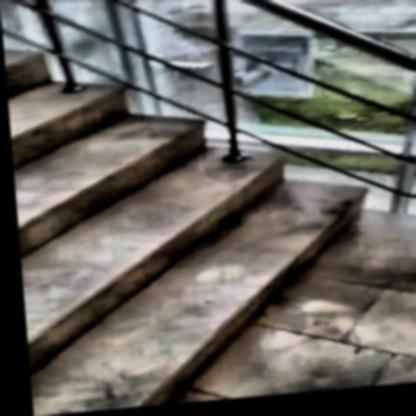stair: (0, 38, 396, 415)
